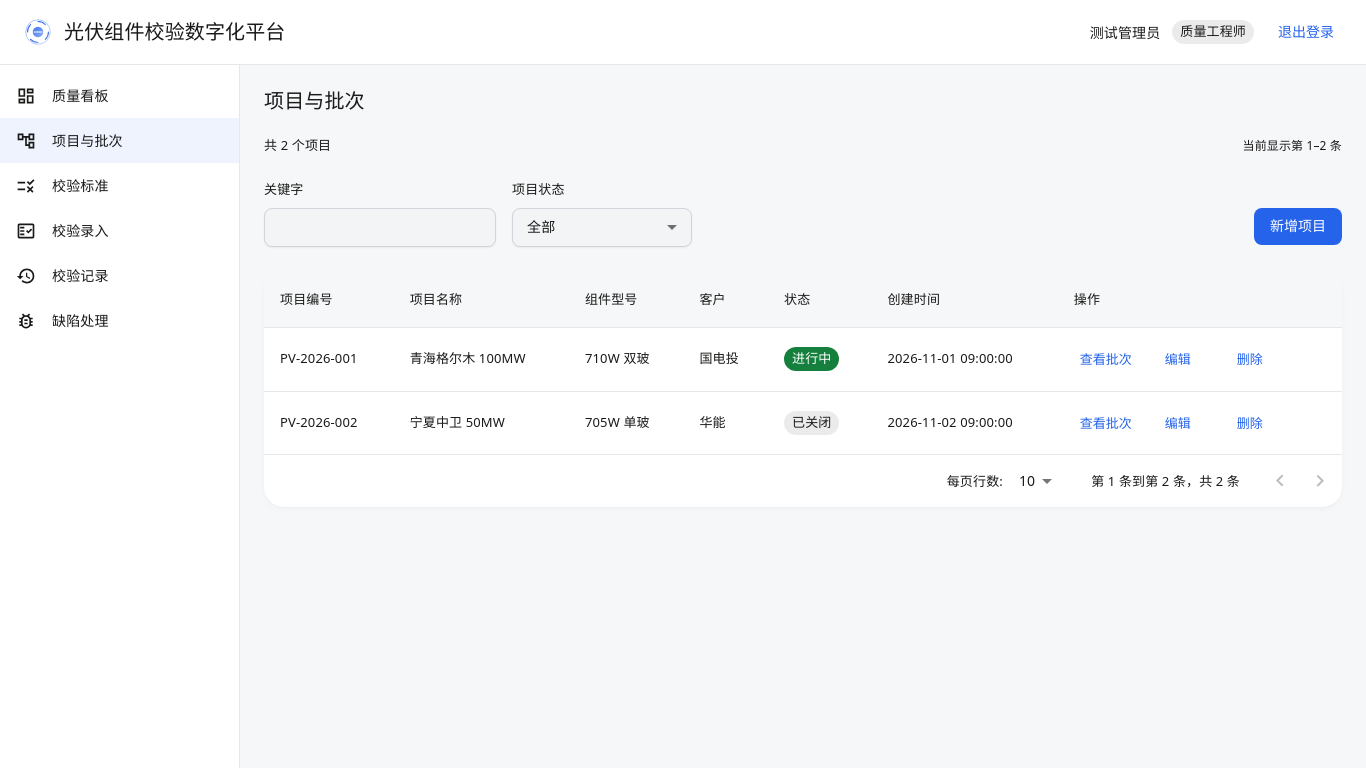
Test: 点查看批次后按该项目加载批次
The image size is (1366, 768).
What coordinates should you click on to do the following:
click the button with aria-label "查看批次 PV-2026-001"
I would click on:
 (1106, 359)
Its box is [1074,344,1138,375].
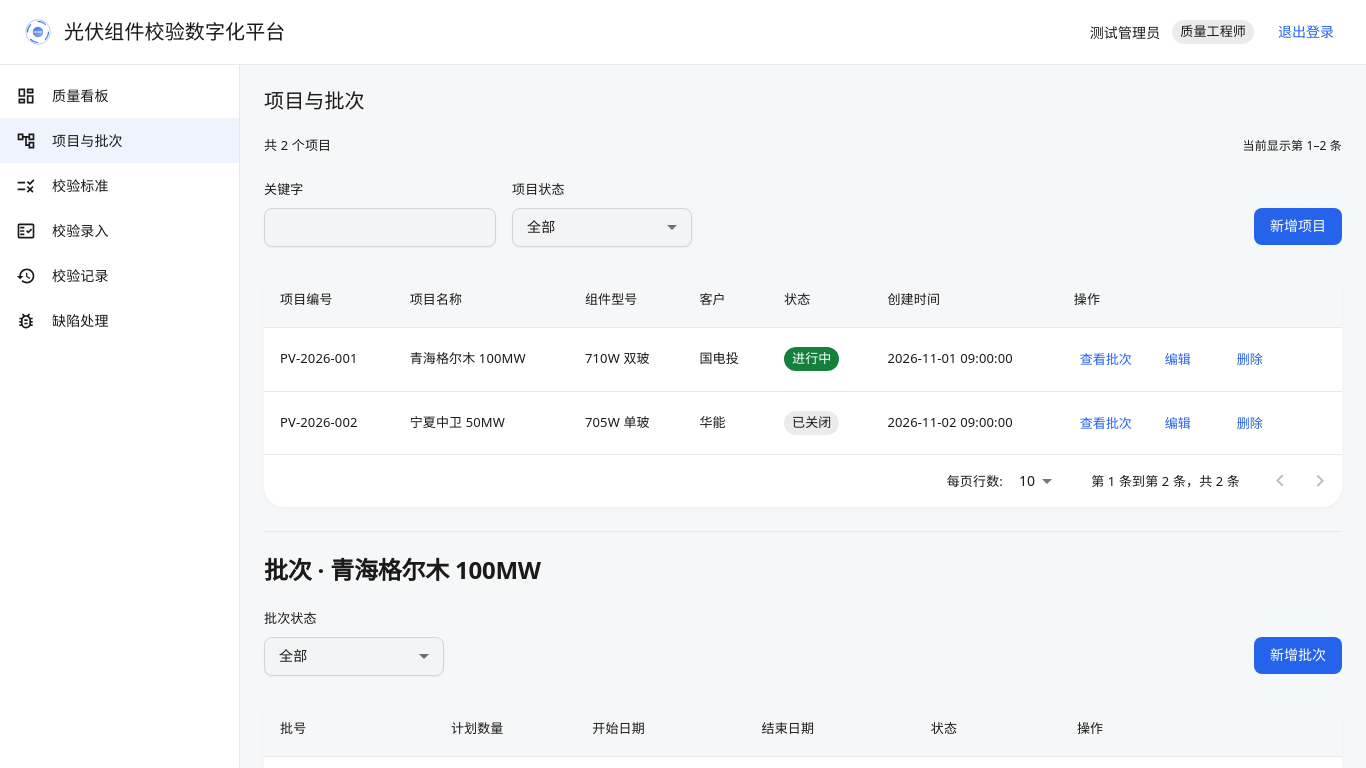
Check: the heading "批次 · 青海格尔木 100MW" is shown, box [264,553,541,586]
